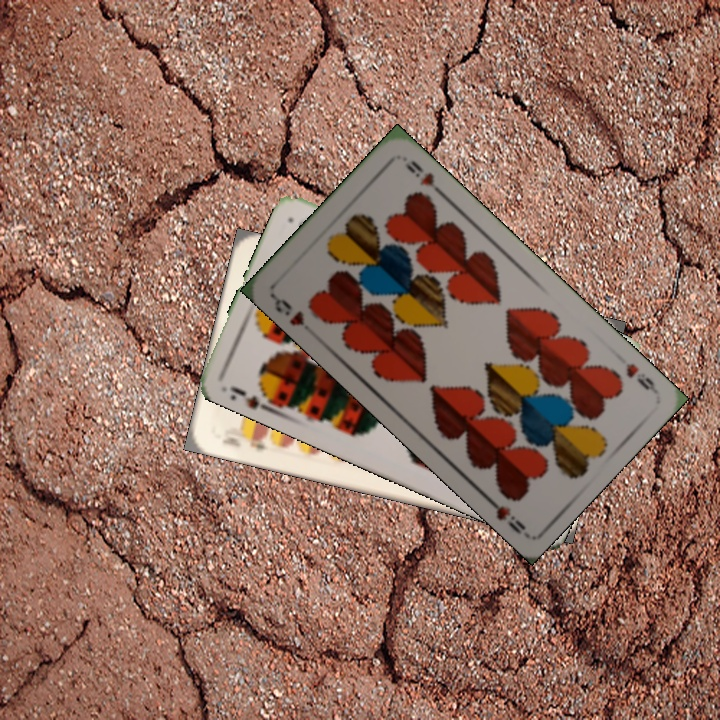E10: (218, 432, 269, 454)
H9: (268, 291, 308, 328), (621, 359, 660, 396)
S9: (225, 382, 279, 416)
